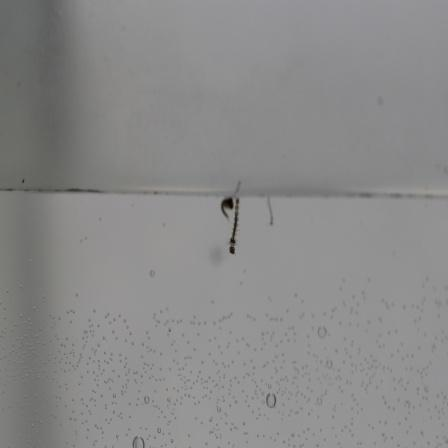Jentik-Nyamuk: (216, 193, 246, 261)
